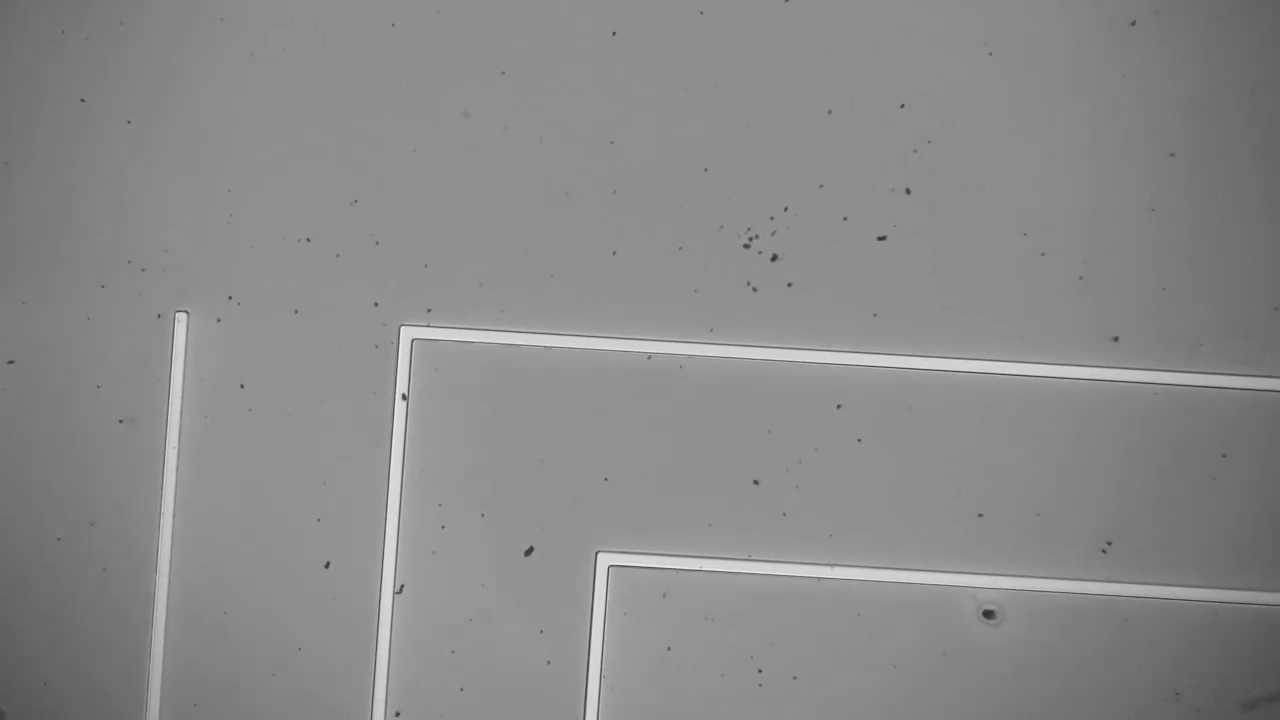stains_enbedded: (390, 391, 415, 408)
